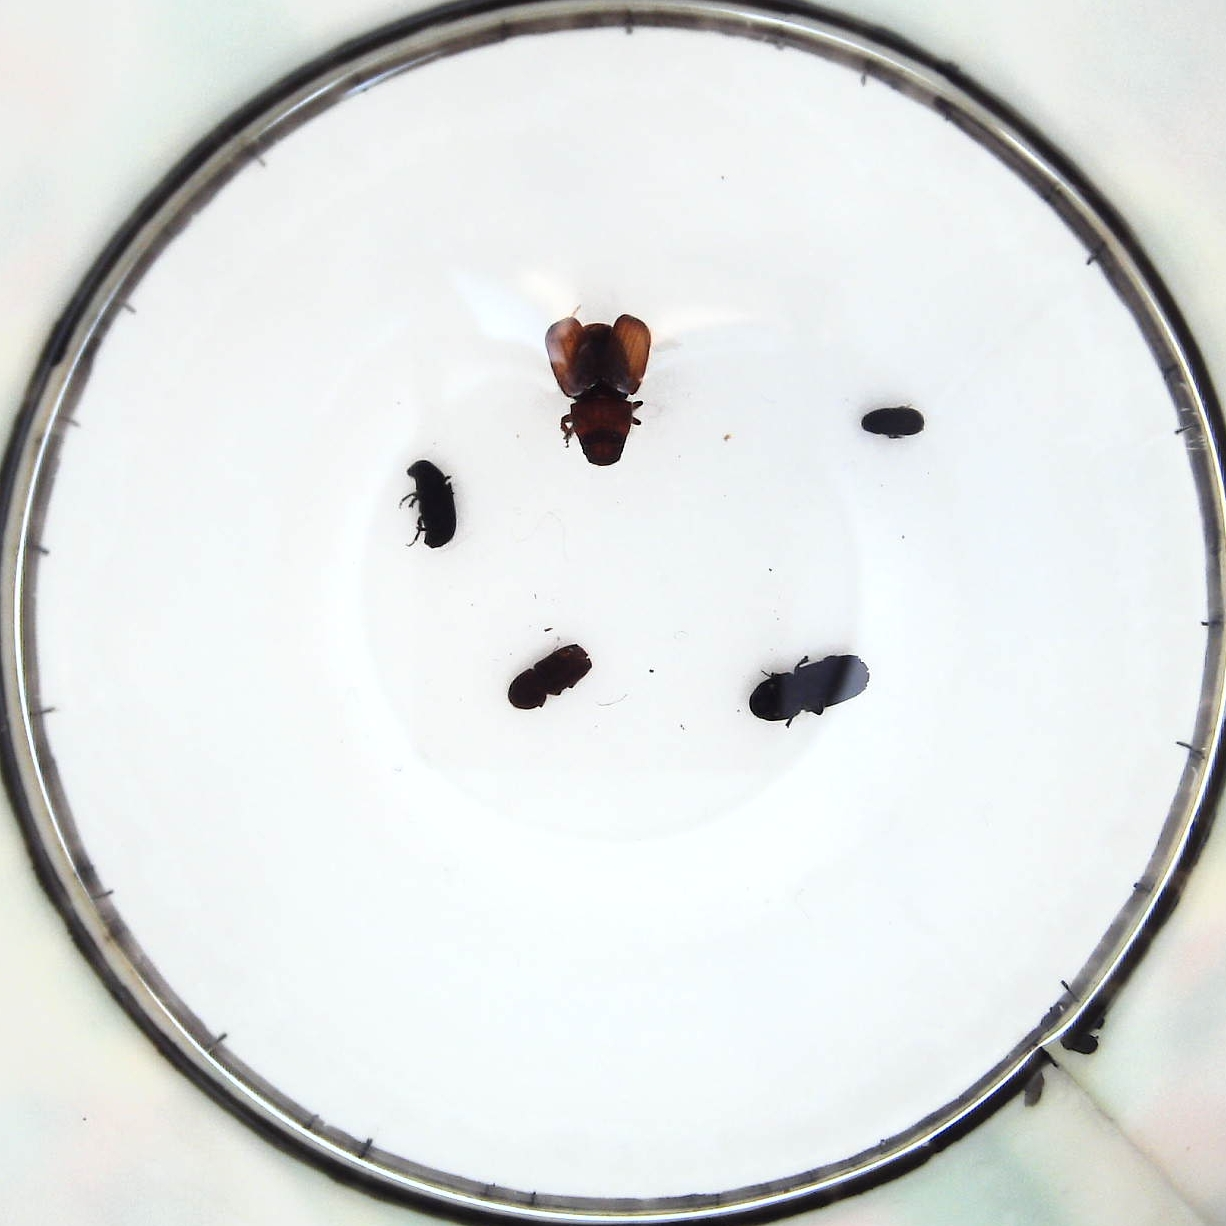Boerner: (751, 655, 863, 725)
Leconte: (551, 317, 649, 472)
Linnaeus: (507, 642, 588, 712)
armandi: (408, 451, 463, 553)
coleoptera: (863, 397, 928, 437)
